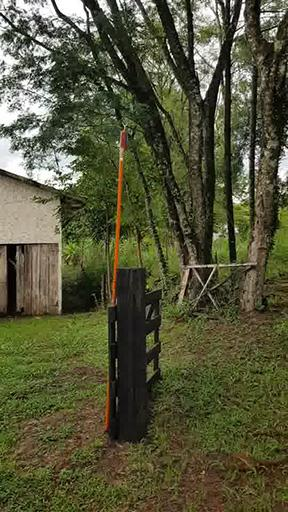Detector_Tensao_Contato: (118, 122, 129, 152)
Vara_Manobra: (103, 151, 125, 434)
